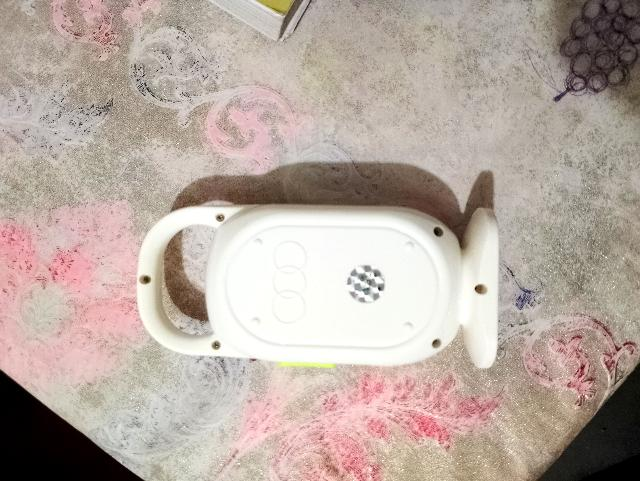hardplastic: (129, 198, 507, 370)
